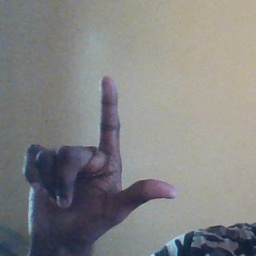L: (21, 75, 179, 243)
